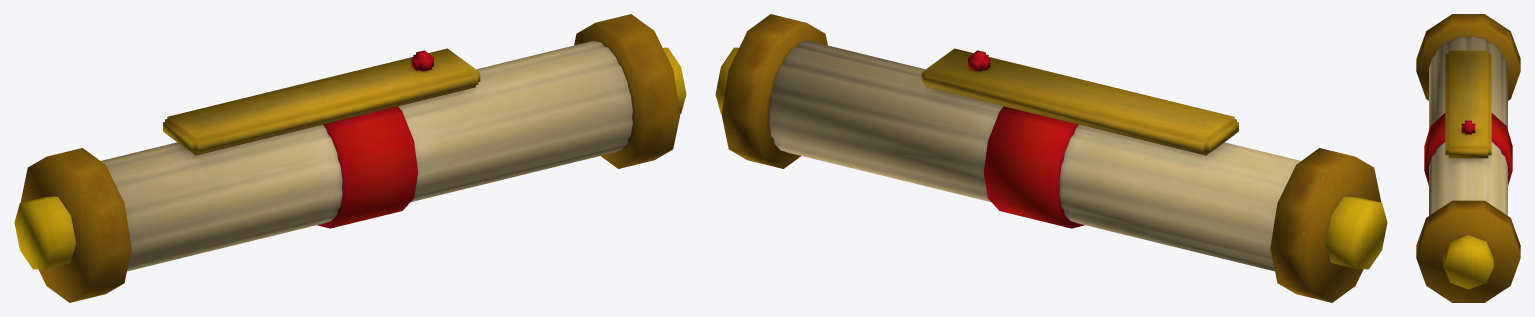
Rendered from TreasureMap.glb.
3 renders of one model, left to right at view 1: azimuth 30°, elevation 25°; view 2: azimuth 150°, elevation 25°; view 3: azimuth 270°, elevation 25°, orthographic. The views are drawn at different scales.
Parts seen in each view (by area): view 1: TreasureMap; view 2: TreasureMap; view 3: TreasureMap.
Part boxes in pixels (<box>): TreasureMap: <box>14,14,686,302</box>; TreasureMap: <box>715,14,1387,302</box>; TreasureMap: <box>1416,14,1520,302</box>.
Size of the model in its own units: 0.44 by 0.1008 by 0.09.
Materials: 1 (1 with a texture image).
